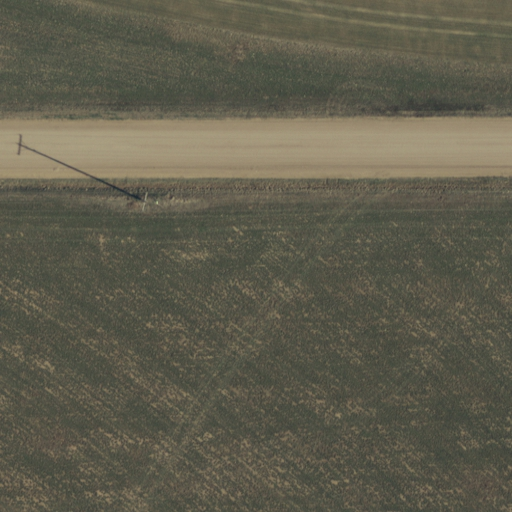DT: (128, 187, 161, 217)
